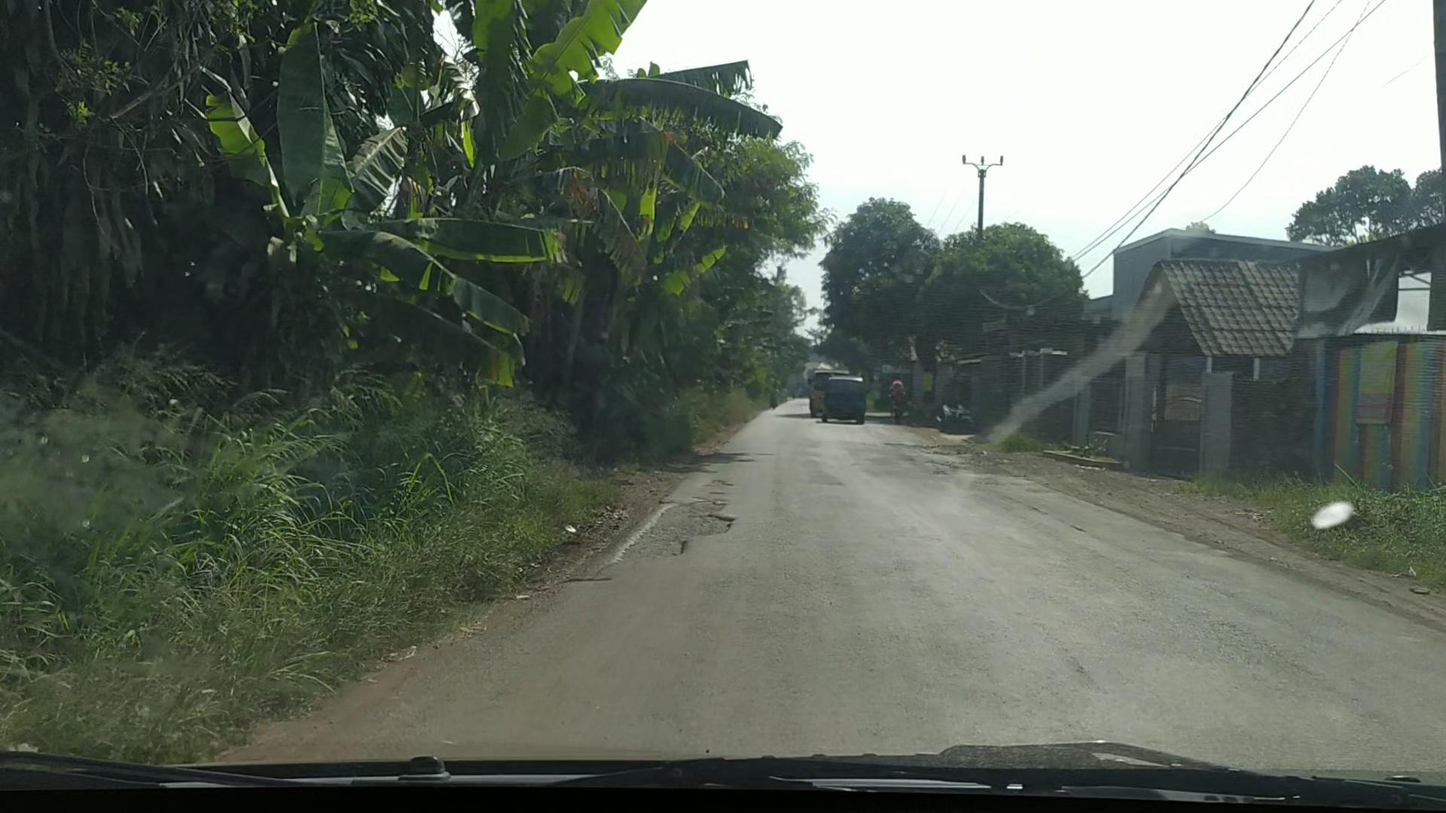pothole: (595, 499, 738, 580)
